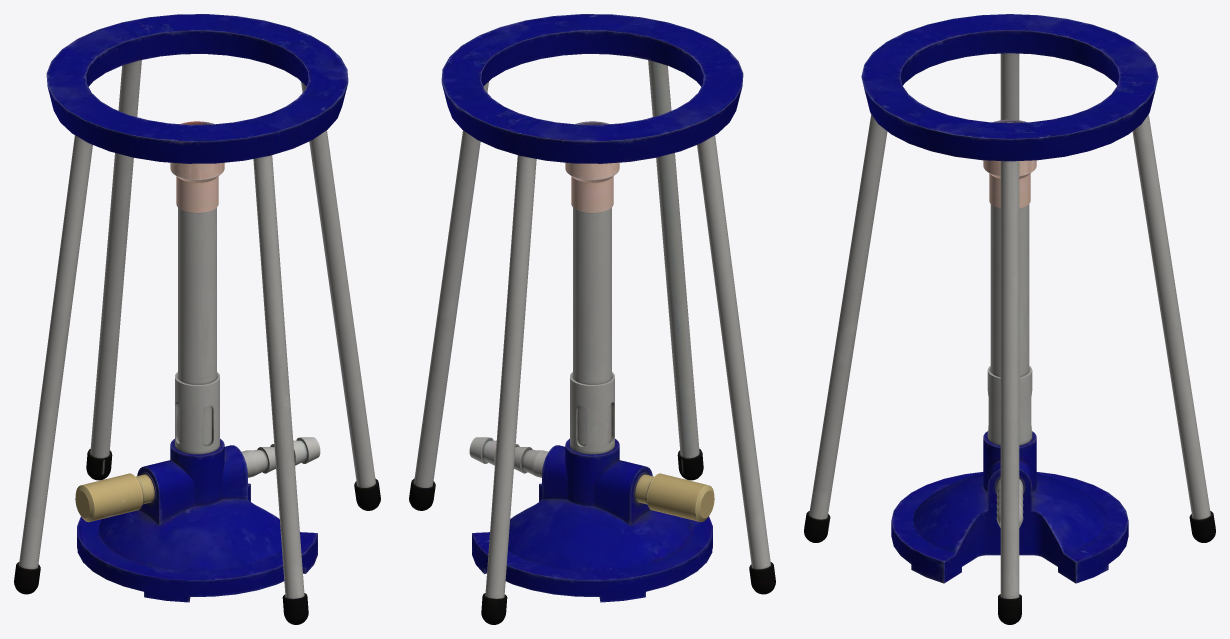
File: bunsen_burner.glb
3 renders of one model, left to right at view 1: azimuth 30°, elevation 25°; view 2: azimuth 150°, elevation 25°; view 3: azimuth 270°, elevation 25°, orthographic.
Visible parts, largest first — view 1: bunsen_burner; view 2: bunsen_burner; view 3: bunsen_burner.
Part boxes in pixels (box(x1,y1,x2,y2)): bunsen_burner: box(14, 14, 380, 624); bunsen_burner: box(409, 14, 775, 624); bunsen_burner: box(804, 14, 1215, 624).
Bounding box in the file's own units: 0.1389 × 0.1731 × 0.1389.
1 material, 1 textured.
